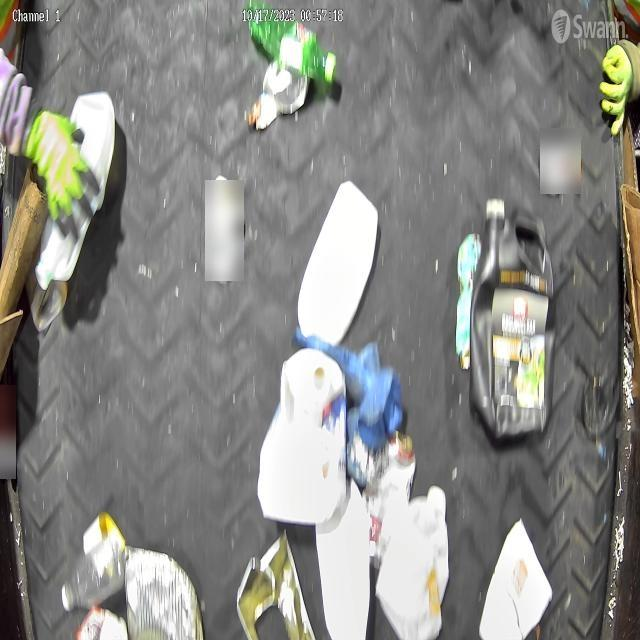milk_jug: (258, 346, 350, 526), (36, 91, 116, 288), (296, 182, 378, 348), (374, 483, 451, 640), (315, 477, 370, 640)
non_white_jug: (470, 198, 557, 444)
plastic_bottle: (62, 511, 130, 611)
